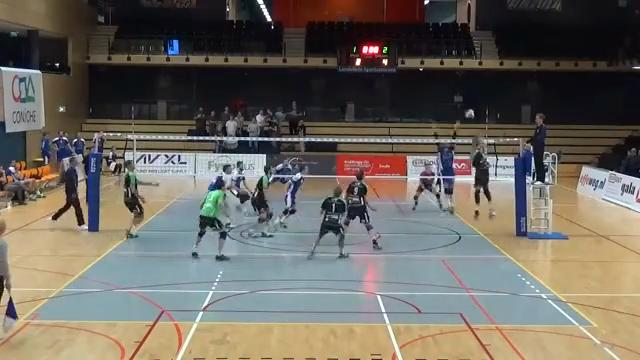Attack: (465, 131, 500, 224)
Block: (426, 118, 463, 222)
Player: (343, 170, 381, 249), (307, 186, 348, 259), (191, 188, 228, 260), (124, 160, 158, 237), (274, 165, 305, 227), (249, 166, 272, 237), (412, 163, 442, 210), (230, 161, 250, 210), (269, 159, 295, 184), (208, 164, 232, 190)
ball: (465, 106, 475, 119)
